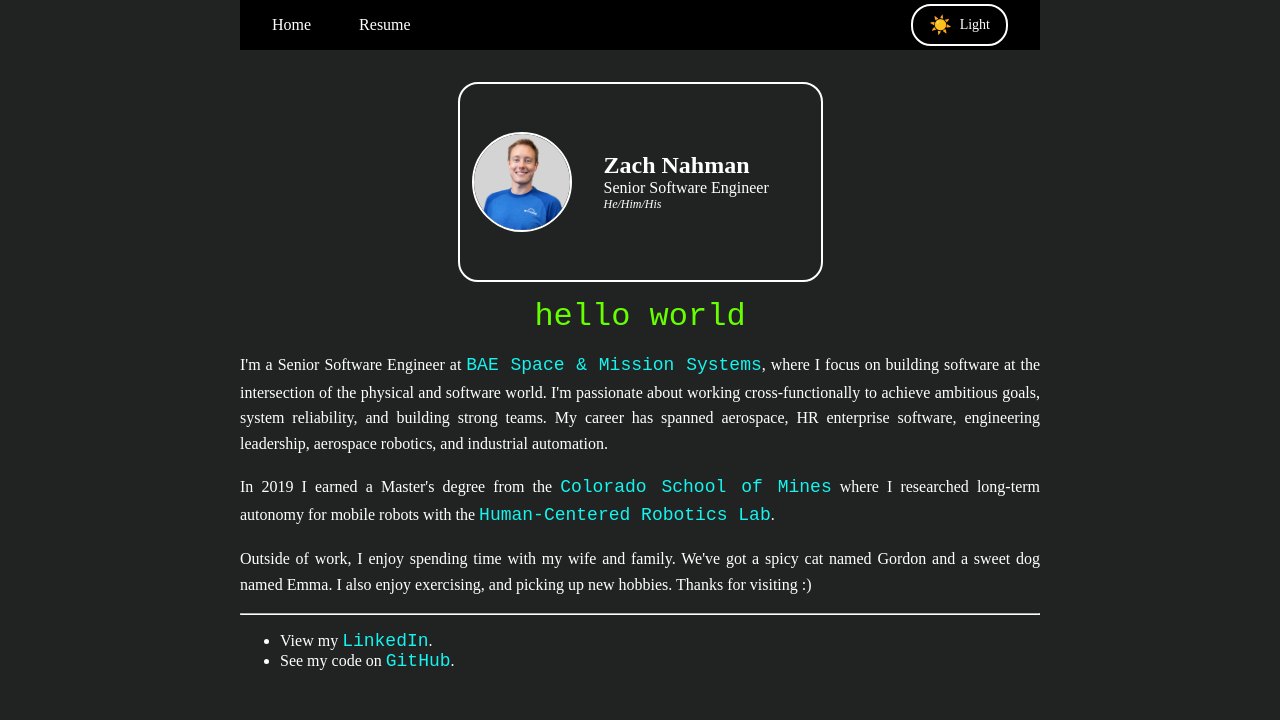
Test: Theme Toggle › should toggle back to dark mode
# Switch to light mode
Click the button with test id "theme-toggle" at (960, 25), box x1=911 y1=4 x2=1008 y2=46
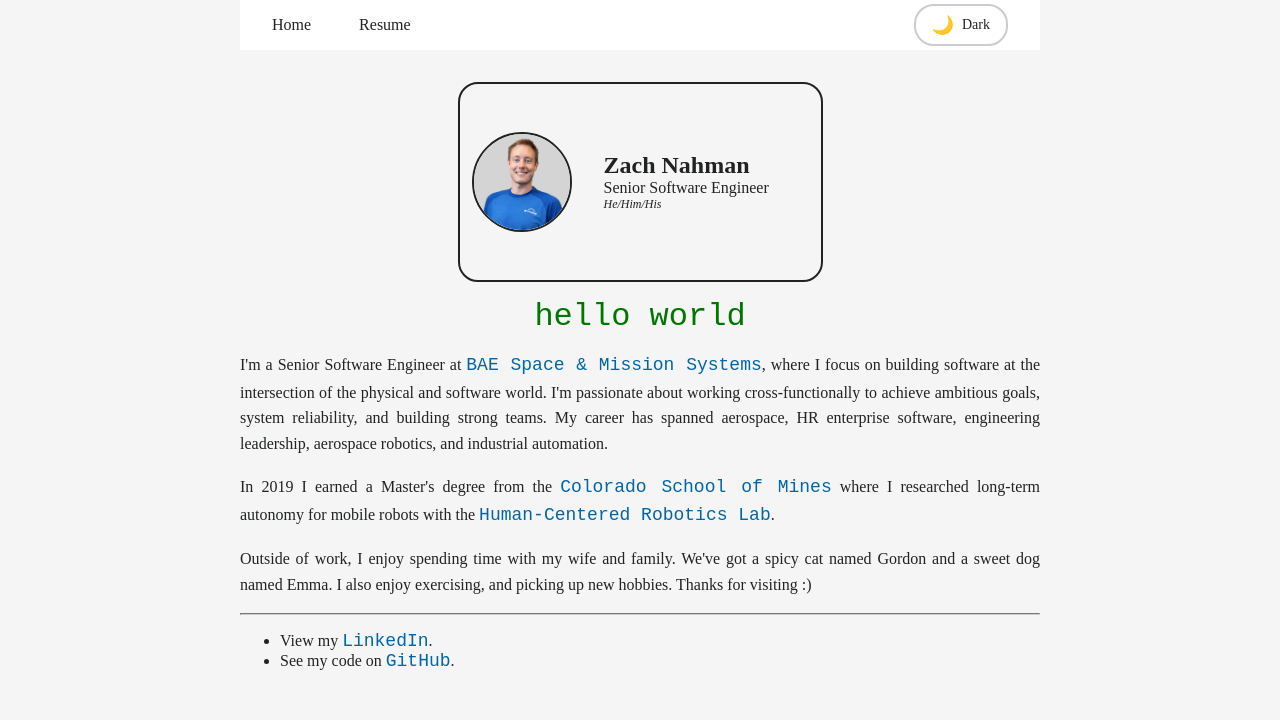
Expected: the element that starts with "Home" has style "background-color"="rgb(245, 245, 245)"
# Switch back to dark mode
Click the button with test id "theme-toggle" at (962, 25), box x1=914 y1=4 x2=1009 y2=46
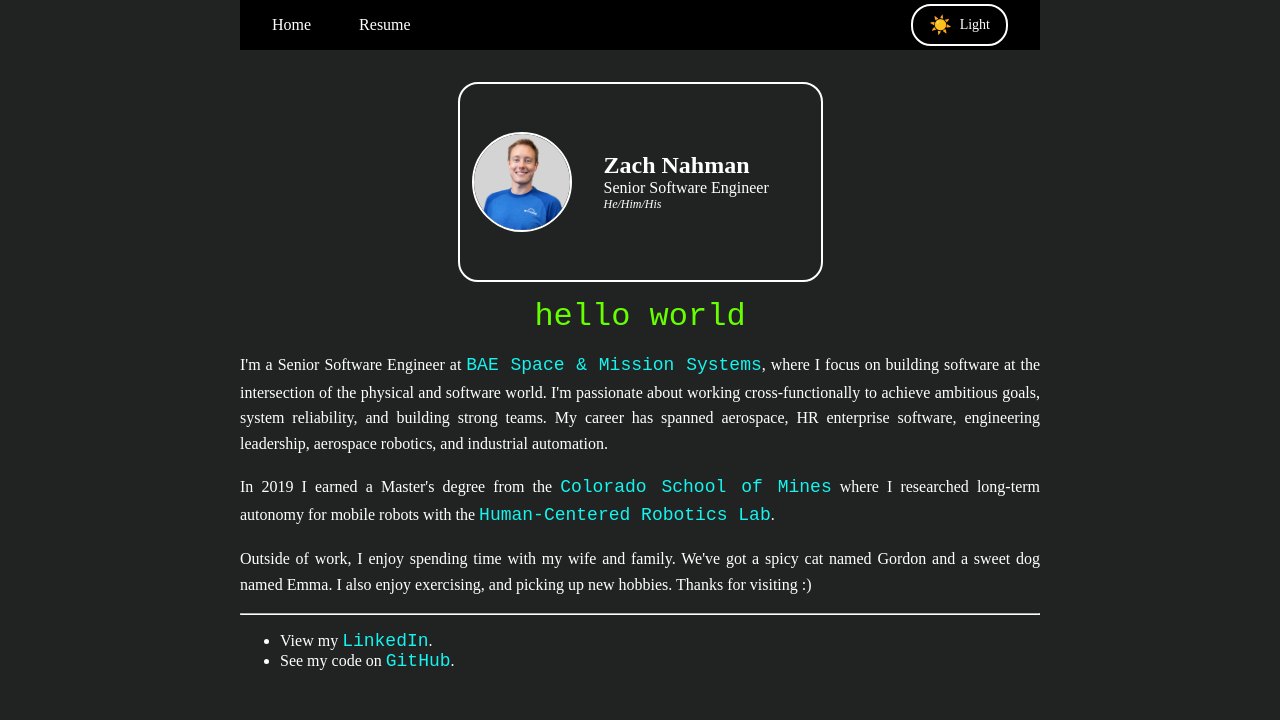
Expected: the text with test id "theme-toggle" reads "Light", x1=960 y1=17 x2=990 y2=32
